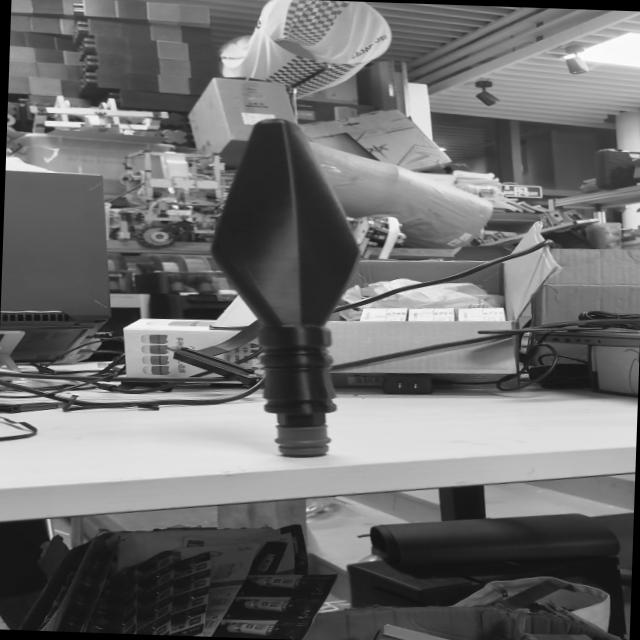base: (274, 418, 332, 458)
